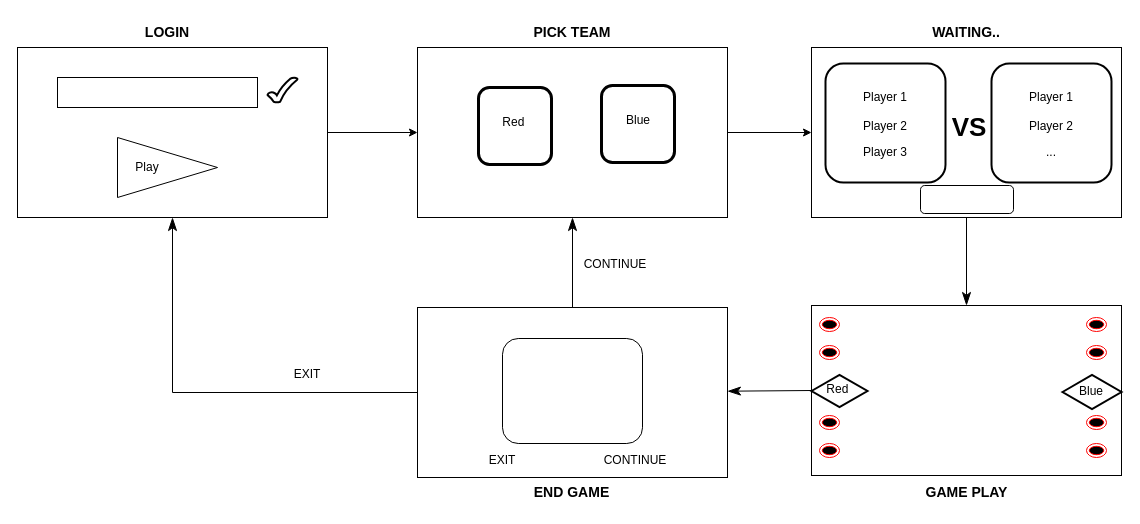
The diagram is 1140 pixels wide and 524 high, and some of its shapes have lost their labels. The centre of each missing label's shape, as x and y in pixels:
Input Nickname: [157,92]
START GAME: [967,199]
WIN / LOSE: [572,391]
